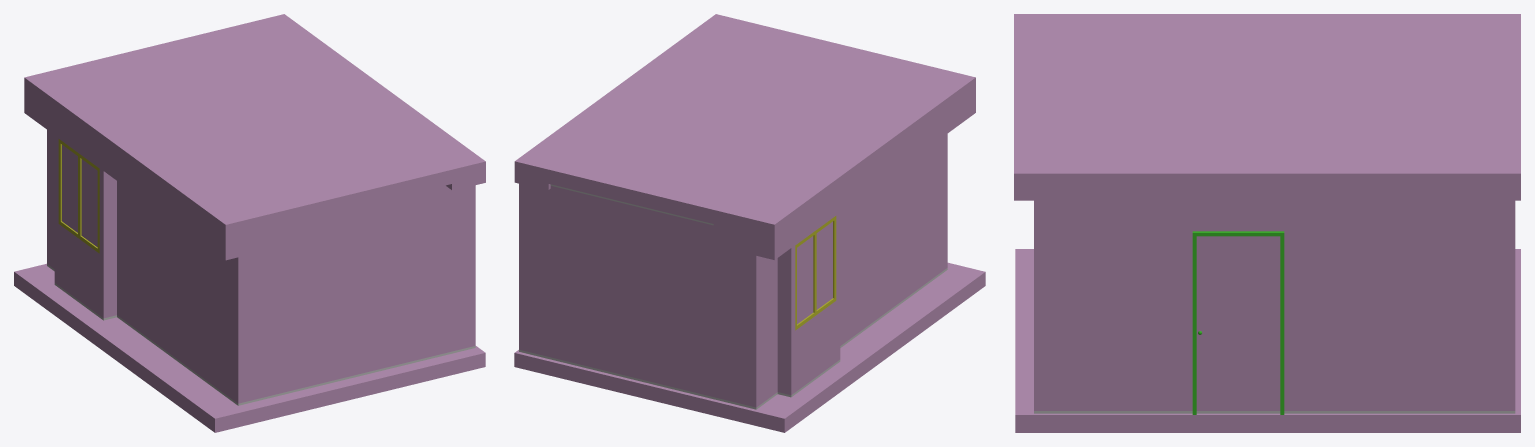
The model's file is FloorPlan307.fbx.
The picture shows the model from 3 angles, left to right: view 1: azimuth 30°, elevation 25°; view 2: azimuth 150°, elevation 25°; view 3: azimuth 270°, elevation 25°; orthographic projection. The views are drawn at different scales.
Visible parts, largest first — view 1: Ceiling.004, StandardWallSize.004, Floor.004, StandardWindow1; view 2: StandardWallSize.004, Ceiling.004, Floor.004, StandardWindow1; view 3: StandardWallSize.004, Ceiling.004, Floor.004, StandardDoorFrame1.004.
Boxes of the visible parts, box(x1,y1,x2,y2) form: Ceiling.004: box(24, 14, 485, 260); StandardWallSize.004: box(47, 130, 475, 405); Floor.004: box(14, 263, 485, 432); StandardWindow1: box(58, 139, 99, 253); StandardWallSize.004: box(519, 134, 947, 409); Ceiling.004: box(514, 14, 975, 259); Floor.004: box(514, 262, 985, 432); StandardWindow1: box(795, 216, 836, 330); StandardWallSize.004: box(1034, 200, 1515, 413); Ceiling.004: box(1014, 14, 1520, 200); Floor.004: box(1015, 249, 1520, 432); StandardDoorFrame1.004: box(1192, 231, 1284, 414).
Bounding box in the file's own units: 399 × 290 × 514.
